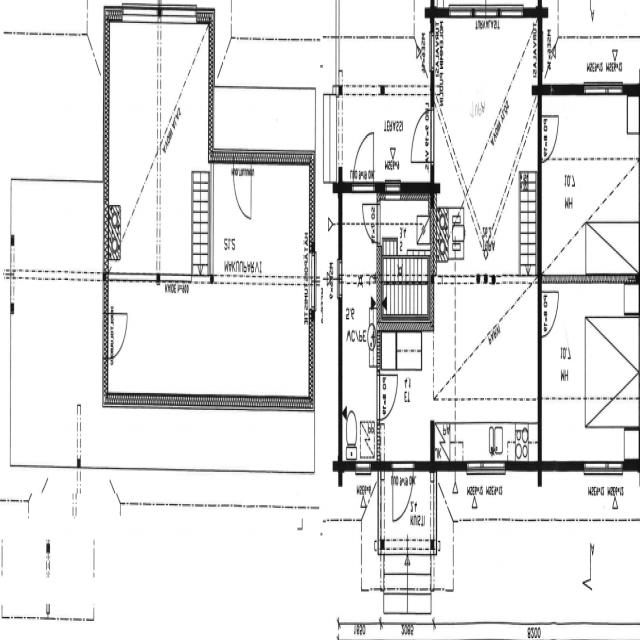door: (410, 110, 434, 162), (354, 131, 374, 192), (393, 462, 413, 522), (538, 115, 560, 161), (538, 292, 560, 337), (377, 374, 398, 420), (362, 204, 380, 242)
